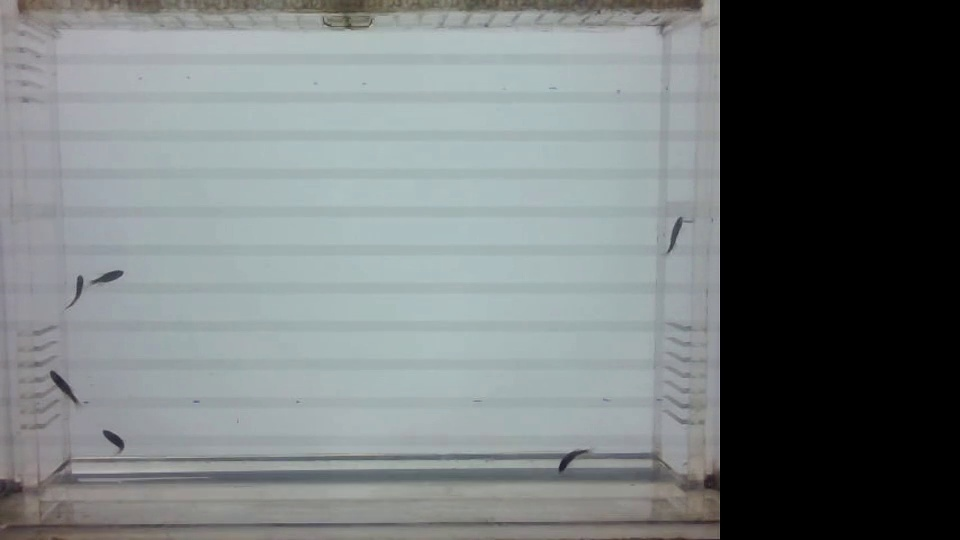fish: (45, 368, 86, 412), (550, 438, 594, 474), (60, 265, 88, 320), (81, 258, 120, 296), (660, 212, 687, 260), (92, 430, 132, 460)
